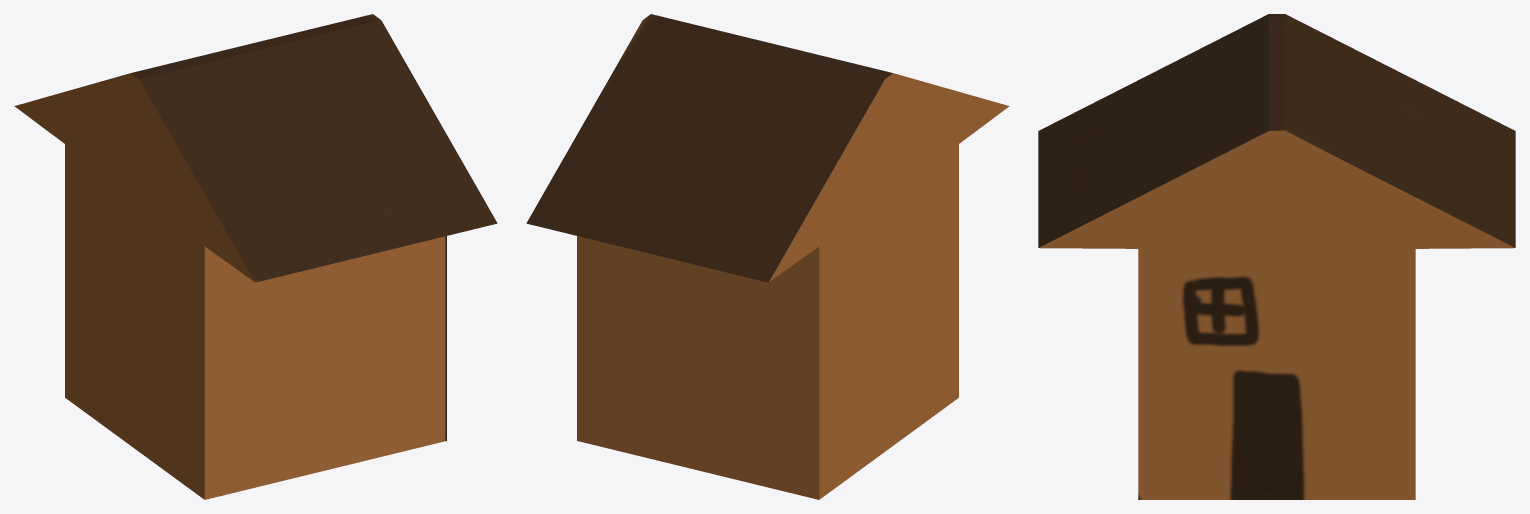
Rendered from house1.fbx.
3 views of the same model, side by side, from view 1: azimuth 30°, elevation 25°; view 2: azimuth 150°, elevation 25°; view 3: azimuth 270°, elevation 25° (orthographic).
Visible parts, largest first — view 1: Cube; view 2: Cube; view 3: Cube.
Part boxes in pixels (<box>): Cube: <box>14,14,497,499</box>; Cube: <box>526,14,1009,499</box>; Cube: <box>1038,14,1515,499</box>.
Size of the model in its own units: 2 by 2.94 by 3.45.
1 material, 1 textured.
